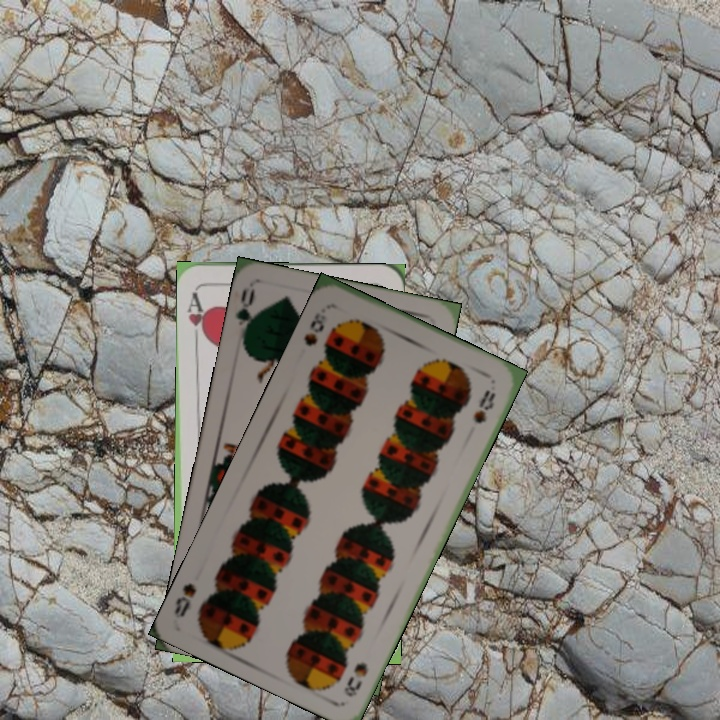GO: (232, 285, 261, 344)
HA: (183, 288, 210, 346)
S8: (340, 658, 371, 700), (299, 308, 329, 349)
